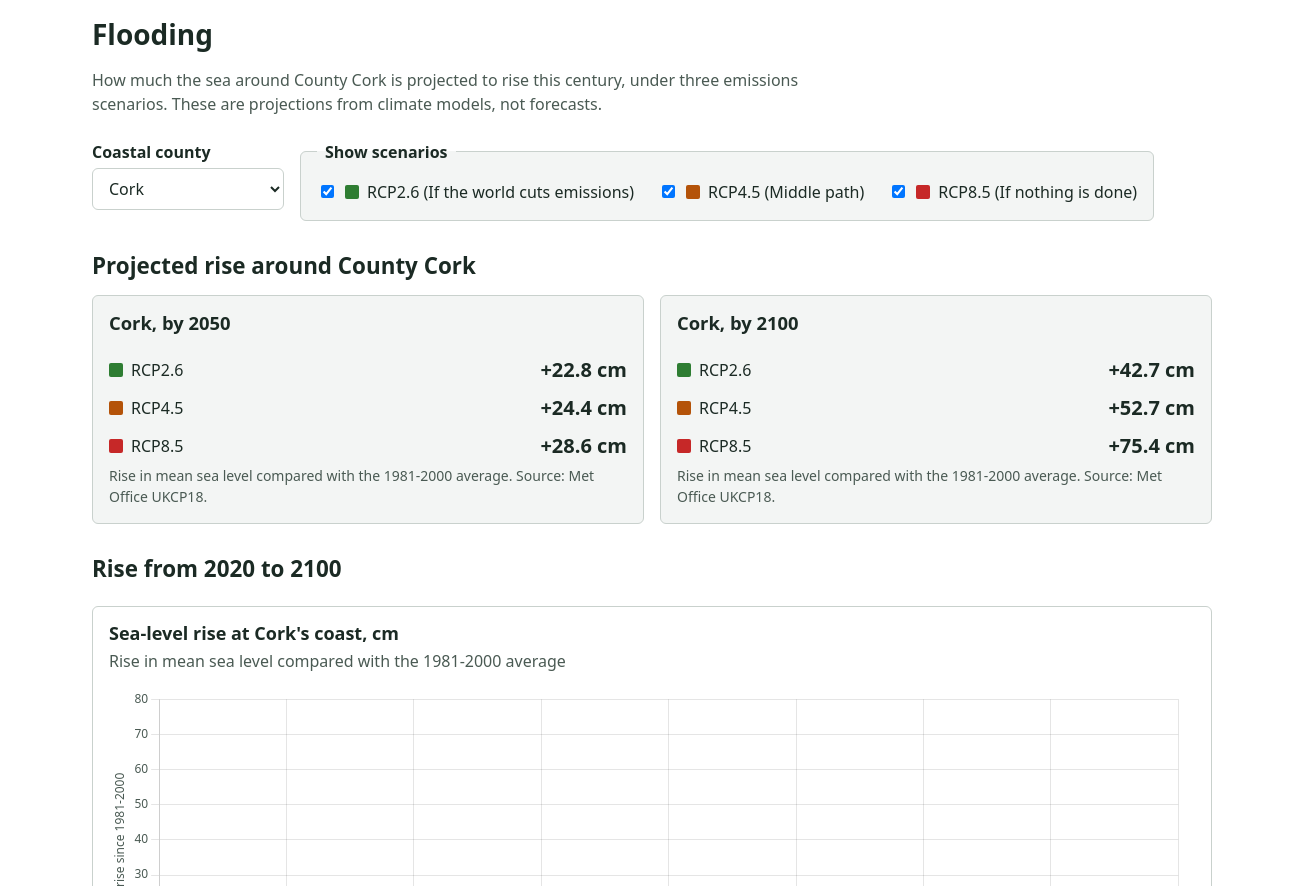
SeaLevel page › loads a new county and keeps it in the URL when one is picked
The width and height of the screenshot is (1304, 886).
Expected: the element "Cork, by 2050" is shown, [92,296,644,524]
Select "Kerry" in the dropdown labelled "Coastal county" at [188, 189], box [92,168,284,210]
(page scrolled)
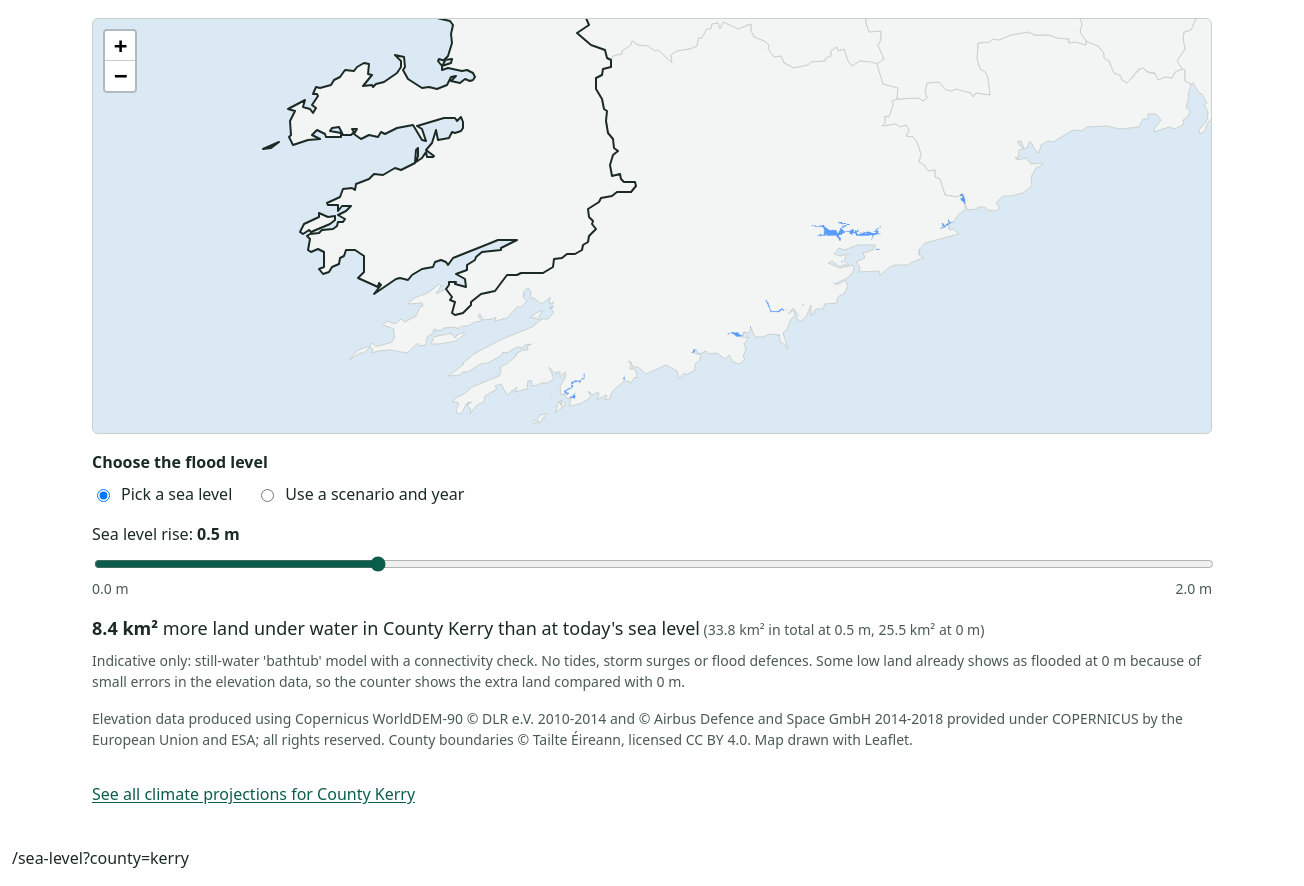
Expected: the text with test id "current-location" shows "county=kerry", [12,847,189,869]
